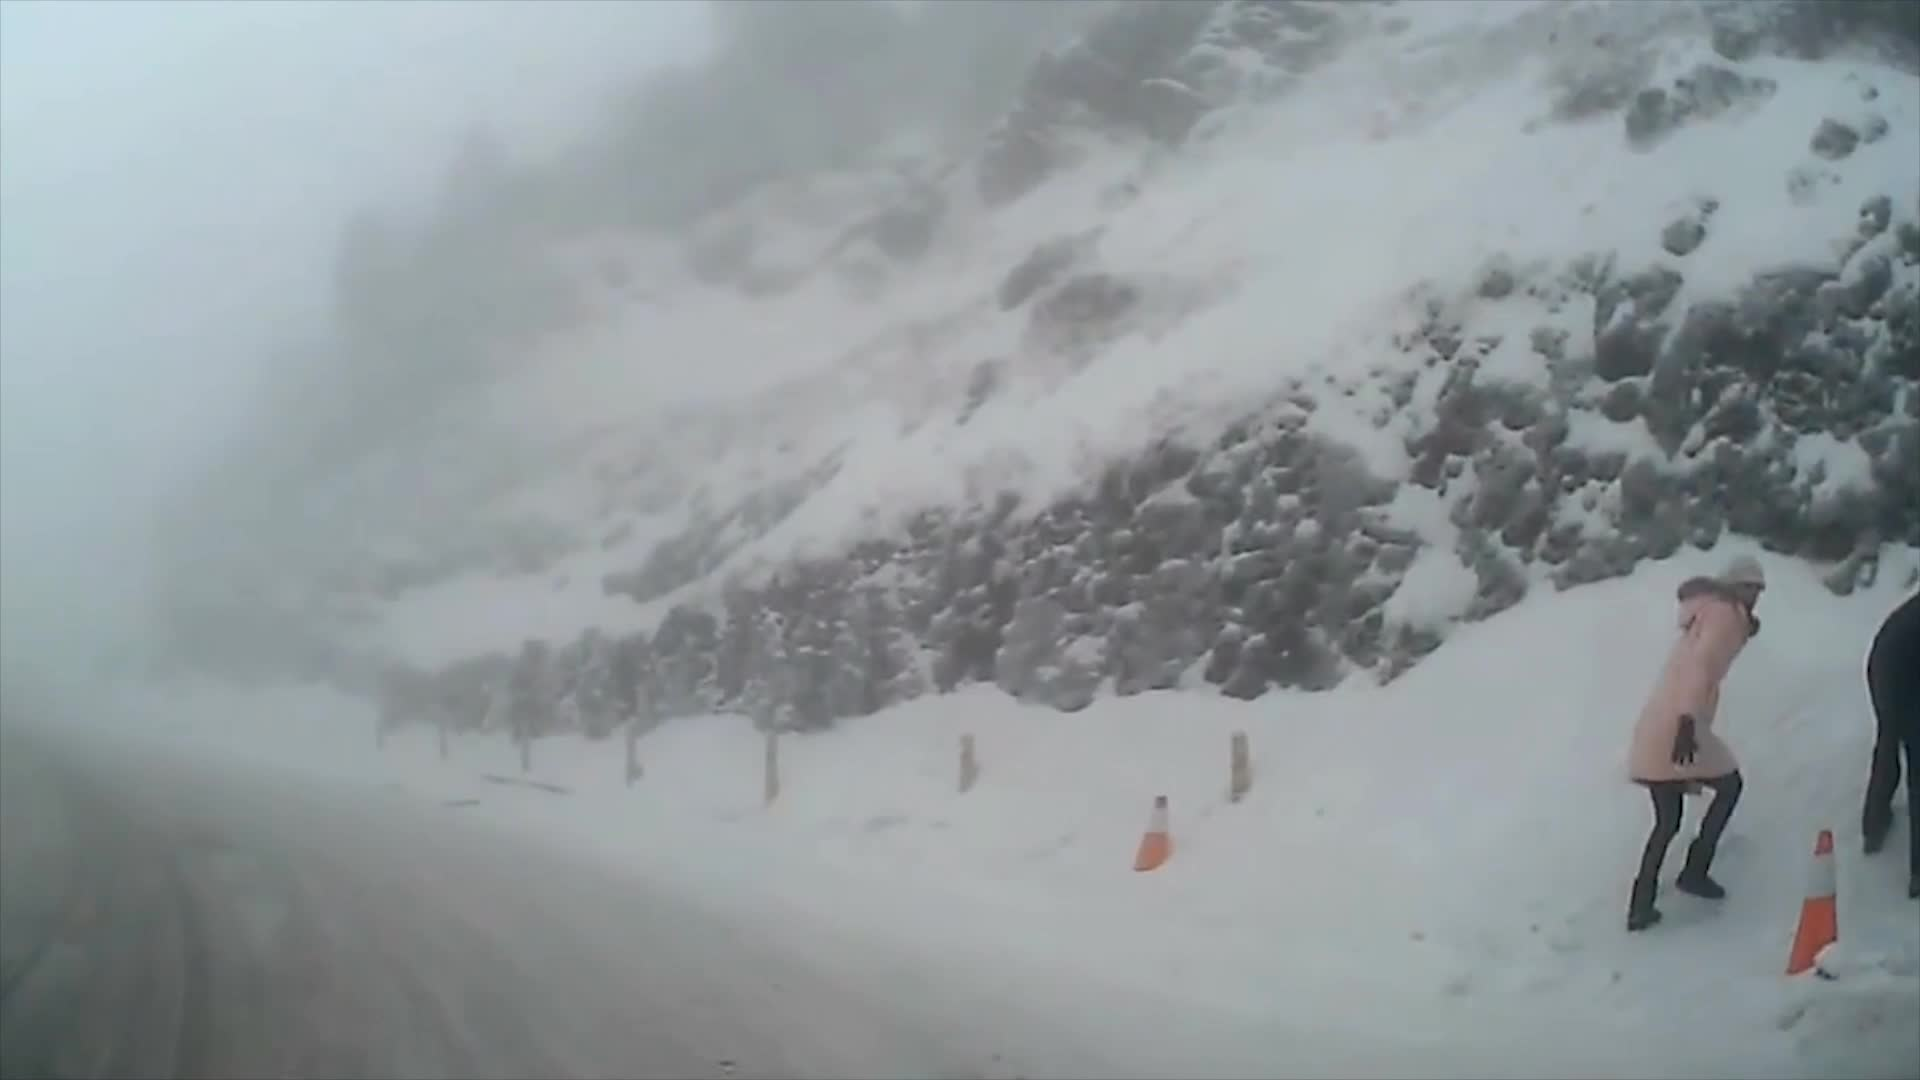pedestrian: (1627, 556, 1780, 937)
